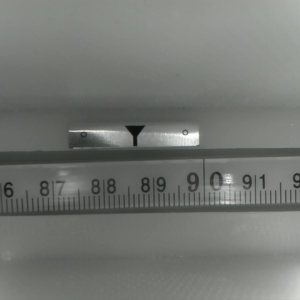0: (209, 171, 224, 191)
1: (259, 174, 265, 189)
6: (2, 181, 13, 197)
7: (54, 180, 64, 195)
8: (140, 176, 151, 193), (38, 180, 48, 196), (90, 179, 100, 194), (106, 178, 115, 194)
9: (186, 172, 200, 191), (155, 176, 166, 192), (242, 174, 252, 189), (292, 172, 300, 188)
finger: (122, 125, 146, 147)
